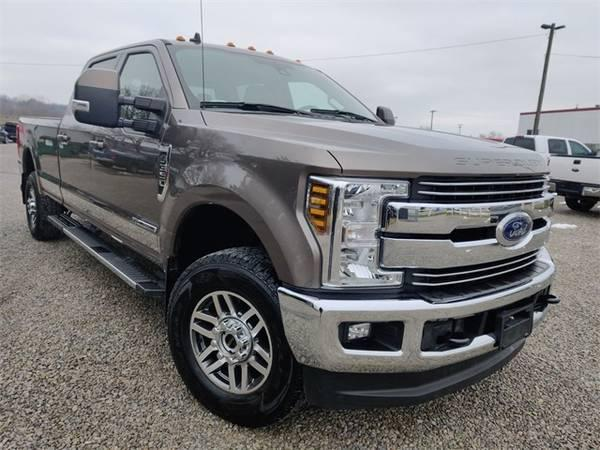Front_Bumper: (283, 248, 559, 407)
Front_Fender: (160, 104, 342, 296)
Front_Right_Door: (98, 121, 177, 270)
Front_Right_Window: (109, 53, 175, 130)
Front_Windshield: (166, 44, 381, 123)
Grille: (381, 167, 557, 291)
Hood: (177, 111, 525, 172)
Rear_Fender: (19, 117, 66, 204)
Rear_Right_Door: (59, 113, 108, 225)
Rear_Right_Window: (72, 58, 122, 119)
Right_Headlight: (305, 168, 409, 285)
Roof: (91, 42, 189, 104)
Wheel: (161, 242, 300, 423), (24, 181, 44, 245)
